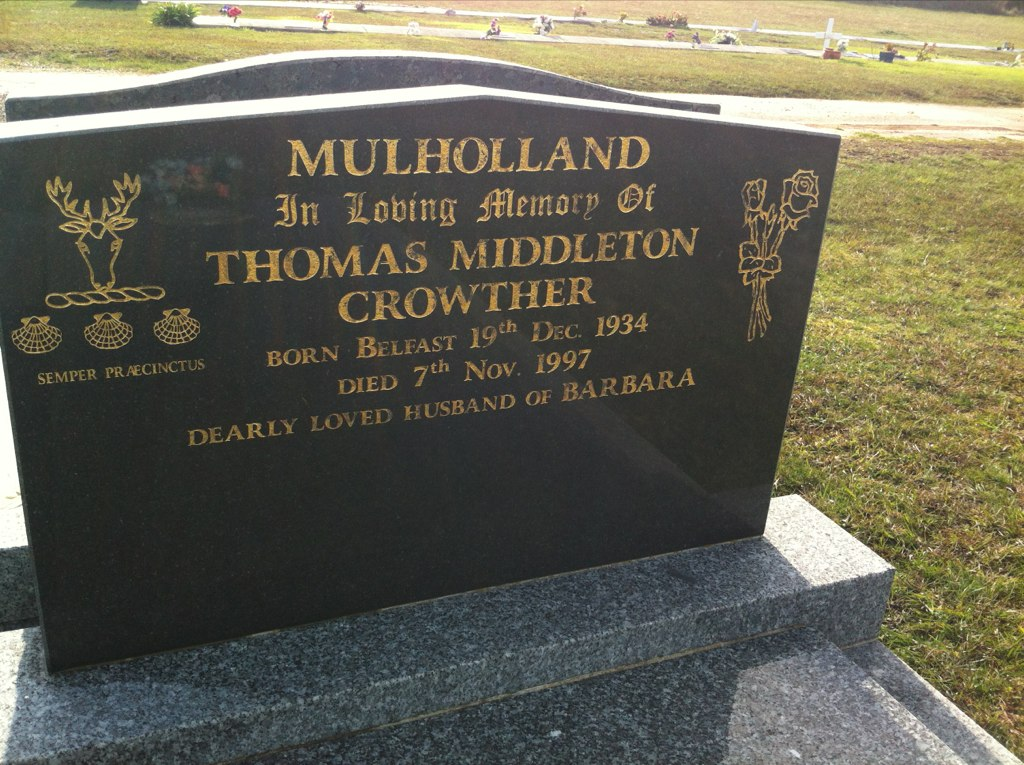upright: (2, 79, 891, 743)
